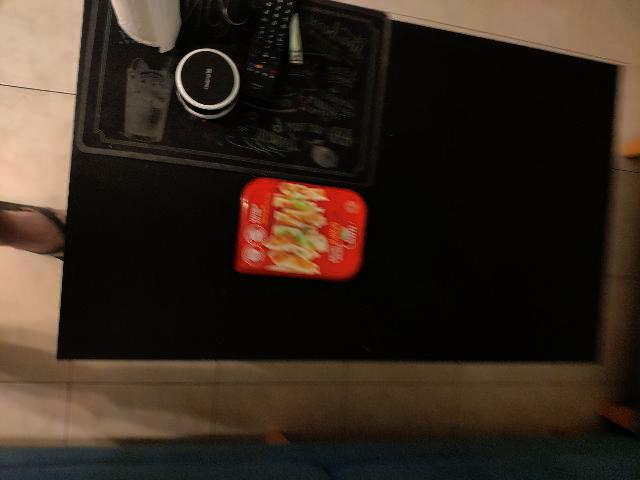cheese: (230, 172, 373, 280)
